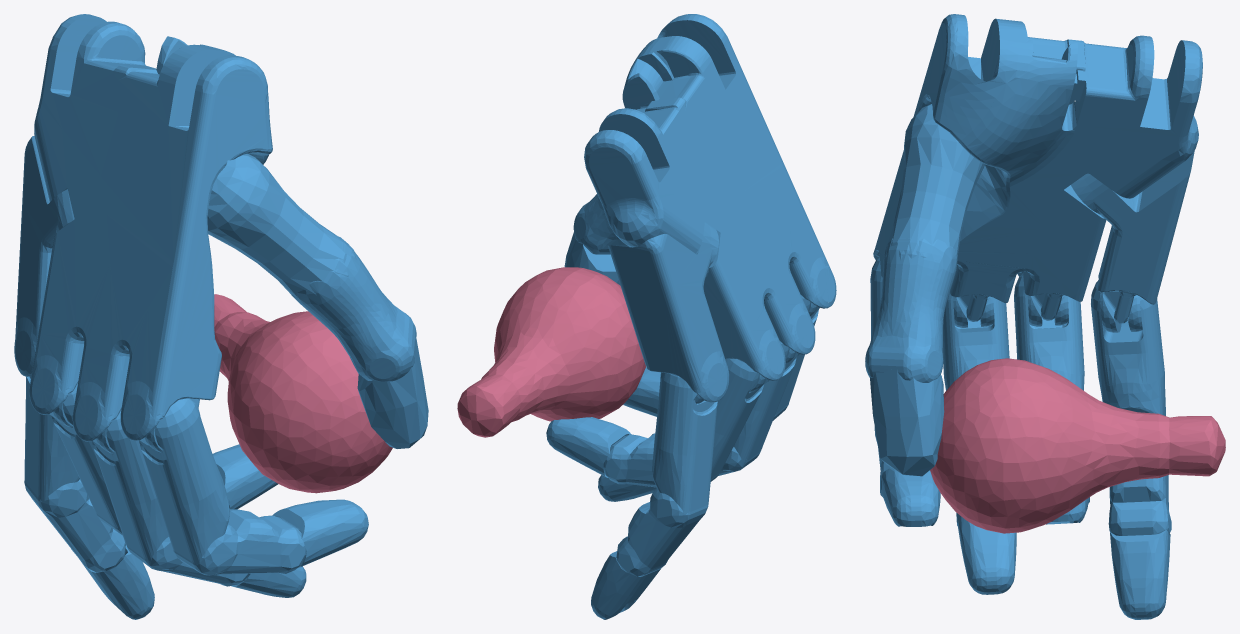
The picture shows the model from 3 angles, left to right: view 1: azimuth 30°, elevation 25°; view 2: azimuth 150°, elevation 25°; view 3: azimuth 270°, elevation 25°; orthographic projection. The views are drawn at different scales.
Visible parts, largest first — view 1: 6; view 2: 6; view 3: 6.
Part boxes in pixels (box(x1,y1,x2,y2)): 6: box(14, 14, 428, 619); 6: box(457, 14, 836, 619); 6: box(865, 14, 1225, 619).
Size of the model in its own units: 0.1121 by 0.1985 by 0.1081.
